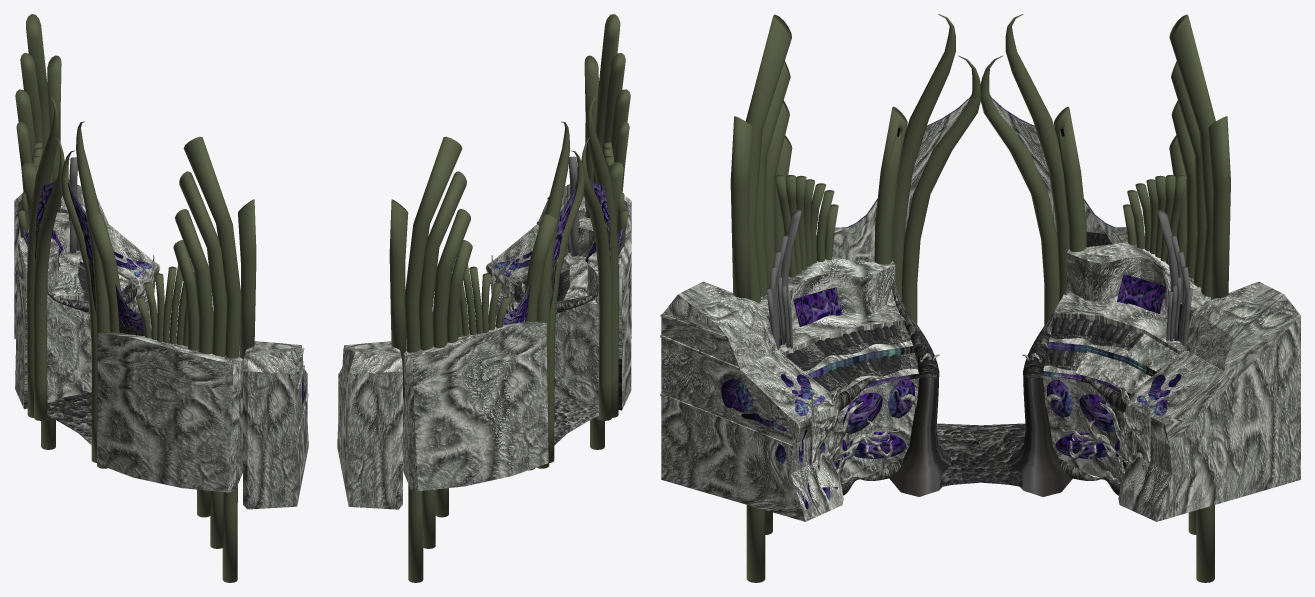
The model's file is Organ_Fix.fbx.
3 views of the same model, side by side, from view 1: azimuth 30°, elevation 25°; view 2: azimuth 150°, elevation 25°; view 3: azimuth 270°, elevation 25° (orthographic). The views are drawn at different scales.
Parts seen in each view (by area): view 1: Side_Consoles, Side_Pipes_L, Sides, Upper_Pipes_R, Upper_Pipes_L, Side_Pipes_R, Cube.002, Register_L, Upper_Furniture_L, Side_Console_PipeR, Upper_Furniture_R; view 2: Side_Consoles, Side_Pipes_R, Sides, Upper_Pipes_L, Side_Pipes_L, Upper_Pipes_R, Cube.002, Side_Console_PipeL, Upper_Furniture_R, Register_R, Upper_Furniture_L, SideTentacle_L (+1 smaller); view 3: Sides, Side_Consoles, Side_Pipes_L, Side_Pipes_R, Upper_Pipes_L, Upper_Pipes_R, SideTentacle_L, SideTentacle_L.001, Cube.002, Cube, Cube.001, Bubbons L (+11 smaller).
Part boxes in pixels (x1,y1,x2,y2): Side_Consoles: (15, 212, 243, 492); Side_Pipes_L: (136, 136, 256, 582); Sides: (14, 185, 308, 509); Upper_Pipes_R: (22, 97, 64, 420); Upper_Pipes_L: (61, 121, 122, 468); Side_Pipes_R: (15, 14, 61, 449); Cube.002: (47, 392, 91, 444); Register_L: (115, 284, 144, 336); Upper_Furniture_L: (67, 182, 96, 313); Side_Console_PipeR: (68, 157, 82, 252); Upper_Furniture_R: (35, 179, 56, 264); Side_Consoles: (403, 217, 631, 491); Side_Pipes_R: (389, 136, 509, 582); Sides: (337, 185, 631, 509); Upper_Pipes_L: (581, 97, 623, 420); Side_Pipes_L: (584, 14, 630, 449); Upper_Pipes_R: (524, 121, 585, 470); Cube.002: (554, 397, 599, 445); Side_Console_PipeL: (564, 156, 578, 256); Upper_Furniture_R: (550, 183, 578, 311); Register_R: (503, 284, 530, 324); Upper_Furniture_L: (589, 179, 611, 265); SideTentacle_L: (556, 282, 598, 313); Sides: (660, 281, 1300, 521); Side_Consoles: (758, 242, 1210, 483); Side_Pipes_L: (730, 14, 838, 582); Side_Pipes_R: (1123, 14, 1230, 582); Upper_Pipes_L: (874, 14, 980, 324); Upper_Pipes_R: (980, 14, 1086, 325); SideTentacle_L: (889, 273, 950, 496); SideTentacle_L.001: (1010, 272, 1072, 496); Cube.002: (936, 423, 1025, 486); Cube: (811, 353, 939, 484); Cube.001: (1022, 353, 1150, 484); Bubbons L: (834, 379, 914, 468).
Size of the model in its own units: 2.31 by 5.37 by 5.68.
